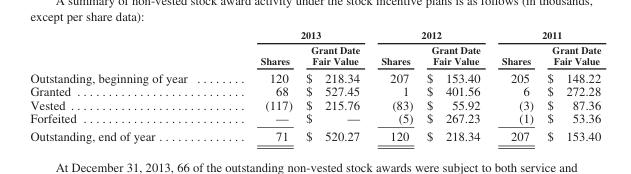table: (29, 28, 600, 142)
table column: (29, 28, 223, 142), (223, 28, 298, 142), (298, 28, 369, 142), (419, 28, 490, 142), (539, 28, 600, 142), (369, 28, 419, 142), (490, 28, 539, 142)
table column header: (29, 28, 600, 68)
table row: (29, 42, 600, 68), (29, 68, 600, 84), (29, 110, 600, 126), (29, 126, 600, 142), (29, 28, 600, 42), (29, 84, 600, 97), (29, 97, 600, 110)
table spanning cell: (223, 28, 369, 42), (369, 28, 490, 42), (490, 28, 600, 42)
